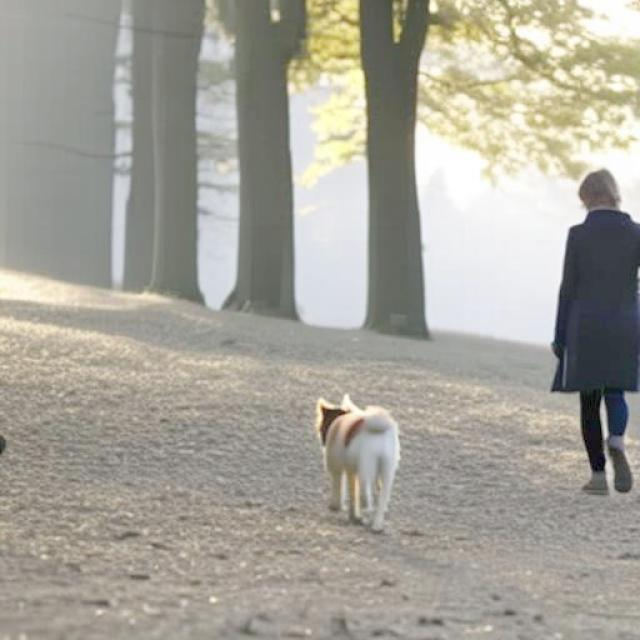Unleashed_Dog: (315, 392, 640, 532)
